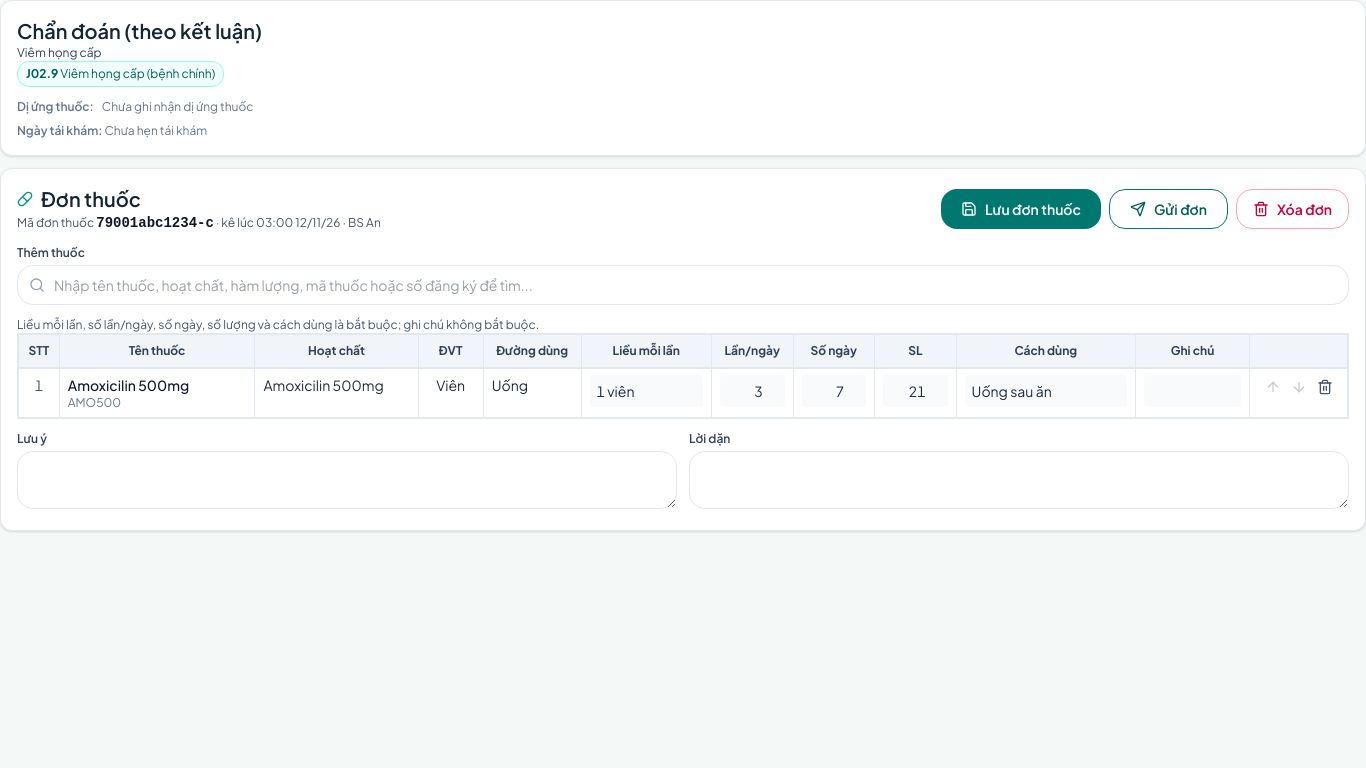
PrescriptionPanel (UC-59 AF-03 Xóa đơn thuốc) › deletes a pending prescription after the MSG109 confirmation and starts again empty
Click the button "Xóa đơn".
click(1292, 209)  # box [1236,189,1349,229]
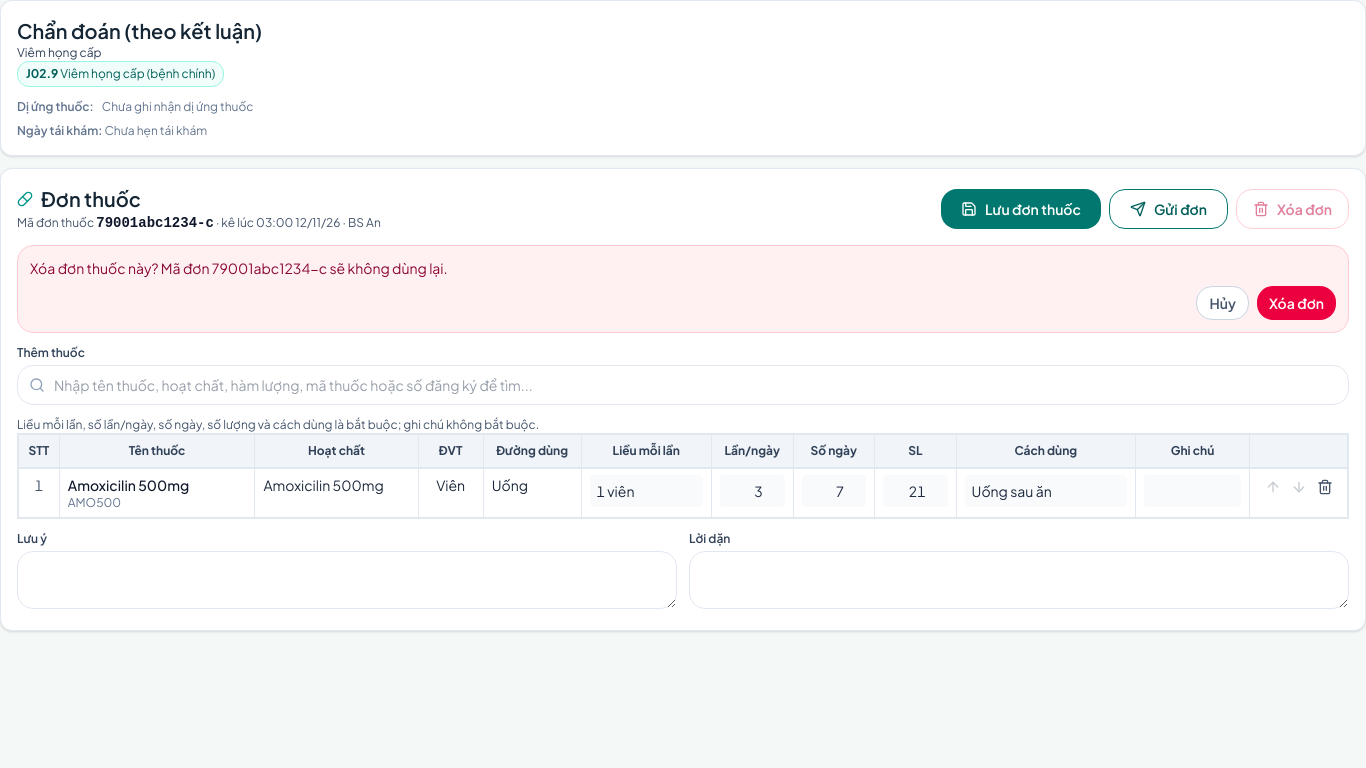
Click the 2nd button "Xóa đơn".
click(1296, 303)  # box [1257,286,1336,320]
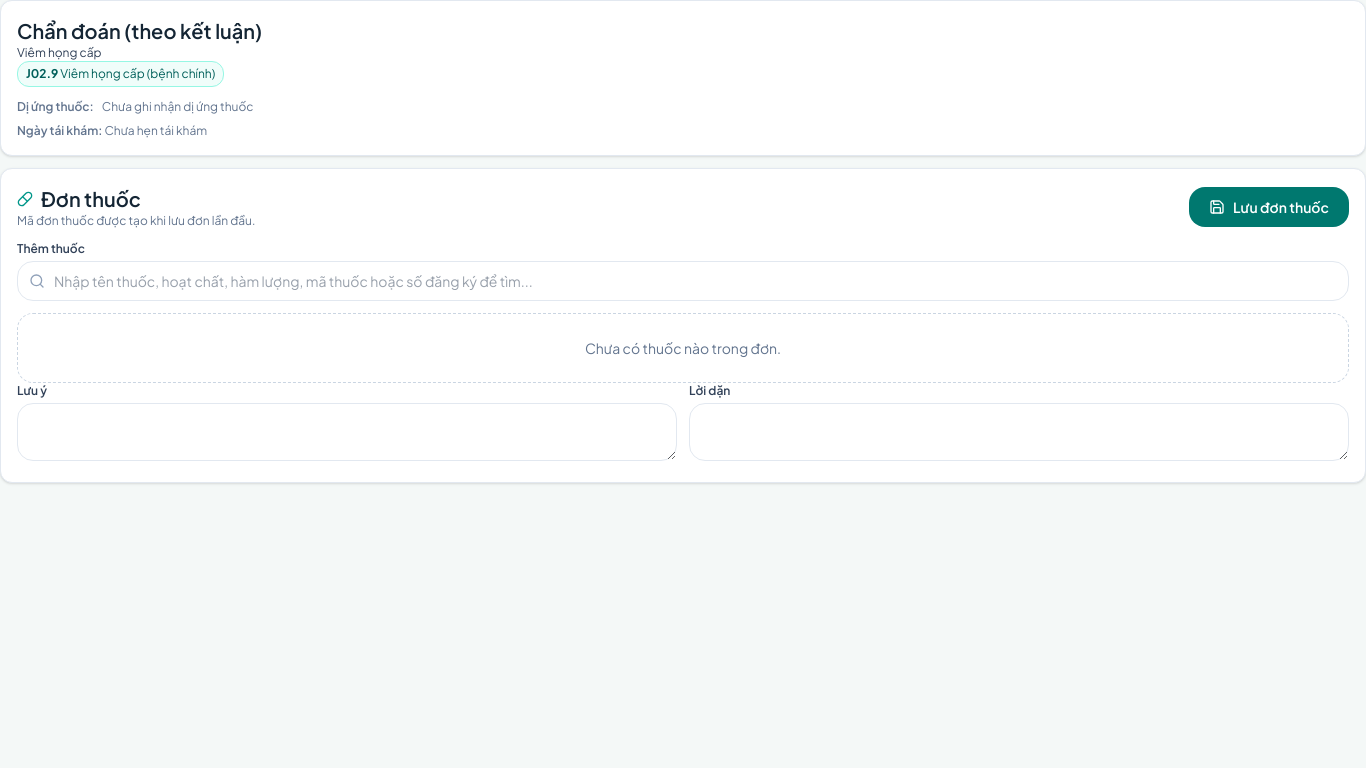
Result: the text "Chưa có thuốc nào trong đơn." is shown at [17,313,1349,383]
Result: the button "Xóa đơn" is gone
